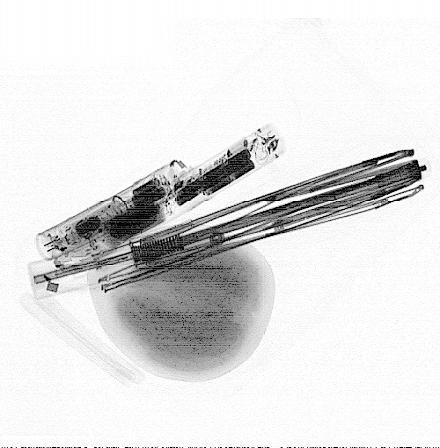Baton: (51, 123, 286, 276), (35, 159, 189, 262)
